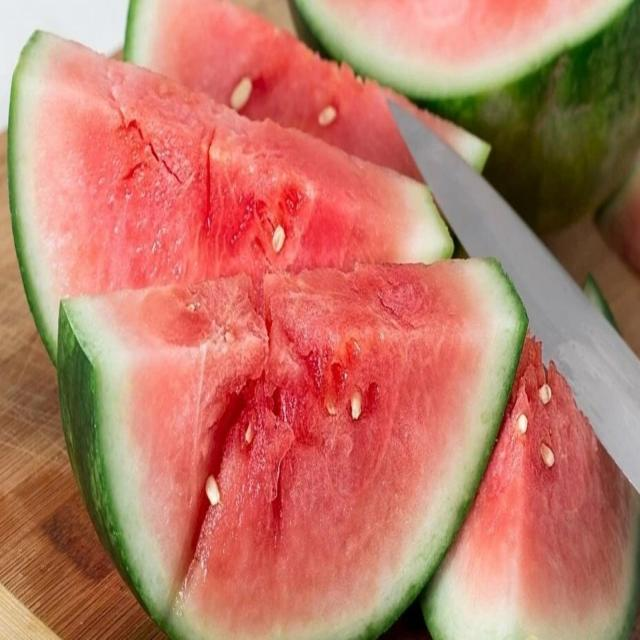watermelon: (52, 249, 531, 640), (7, 24, 461, 426), (406, 246, 640, 640)
